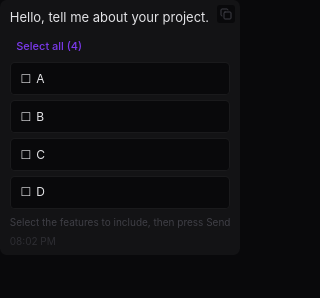
Test case: SpecChatMessage › Select All toggles all options on and off
// Click Select All
Click the button "Select all (4)".
click(120, 46)  # box [10,34,230,57]
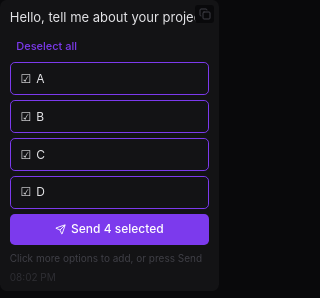
Result: the button "Send 4 selected" is shown at [10,214,209,245]
Result: the button "Deselect all" is shown
// Click Deselect all
Click the button "Deselect all".
click(109, 46)  # box [10,34,209,57]
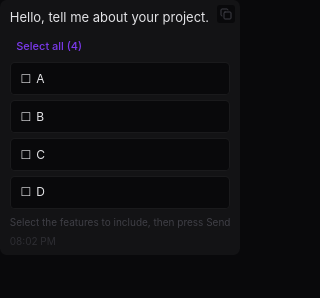
Result: the button "Send 4 selected" is gone
